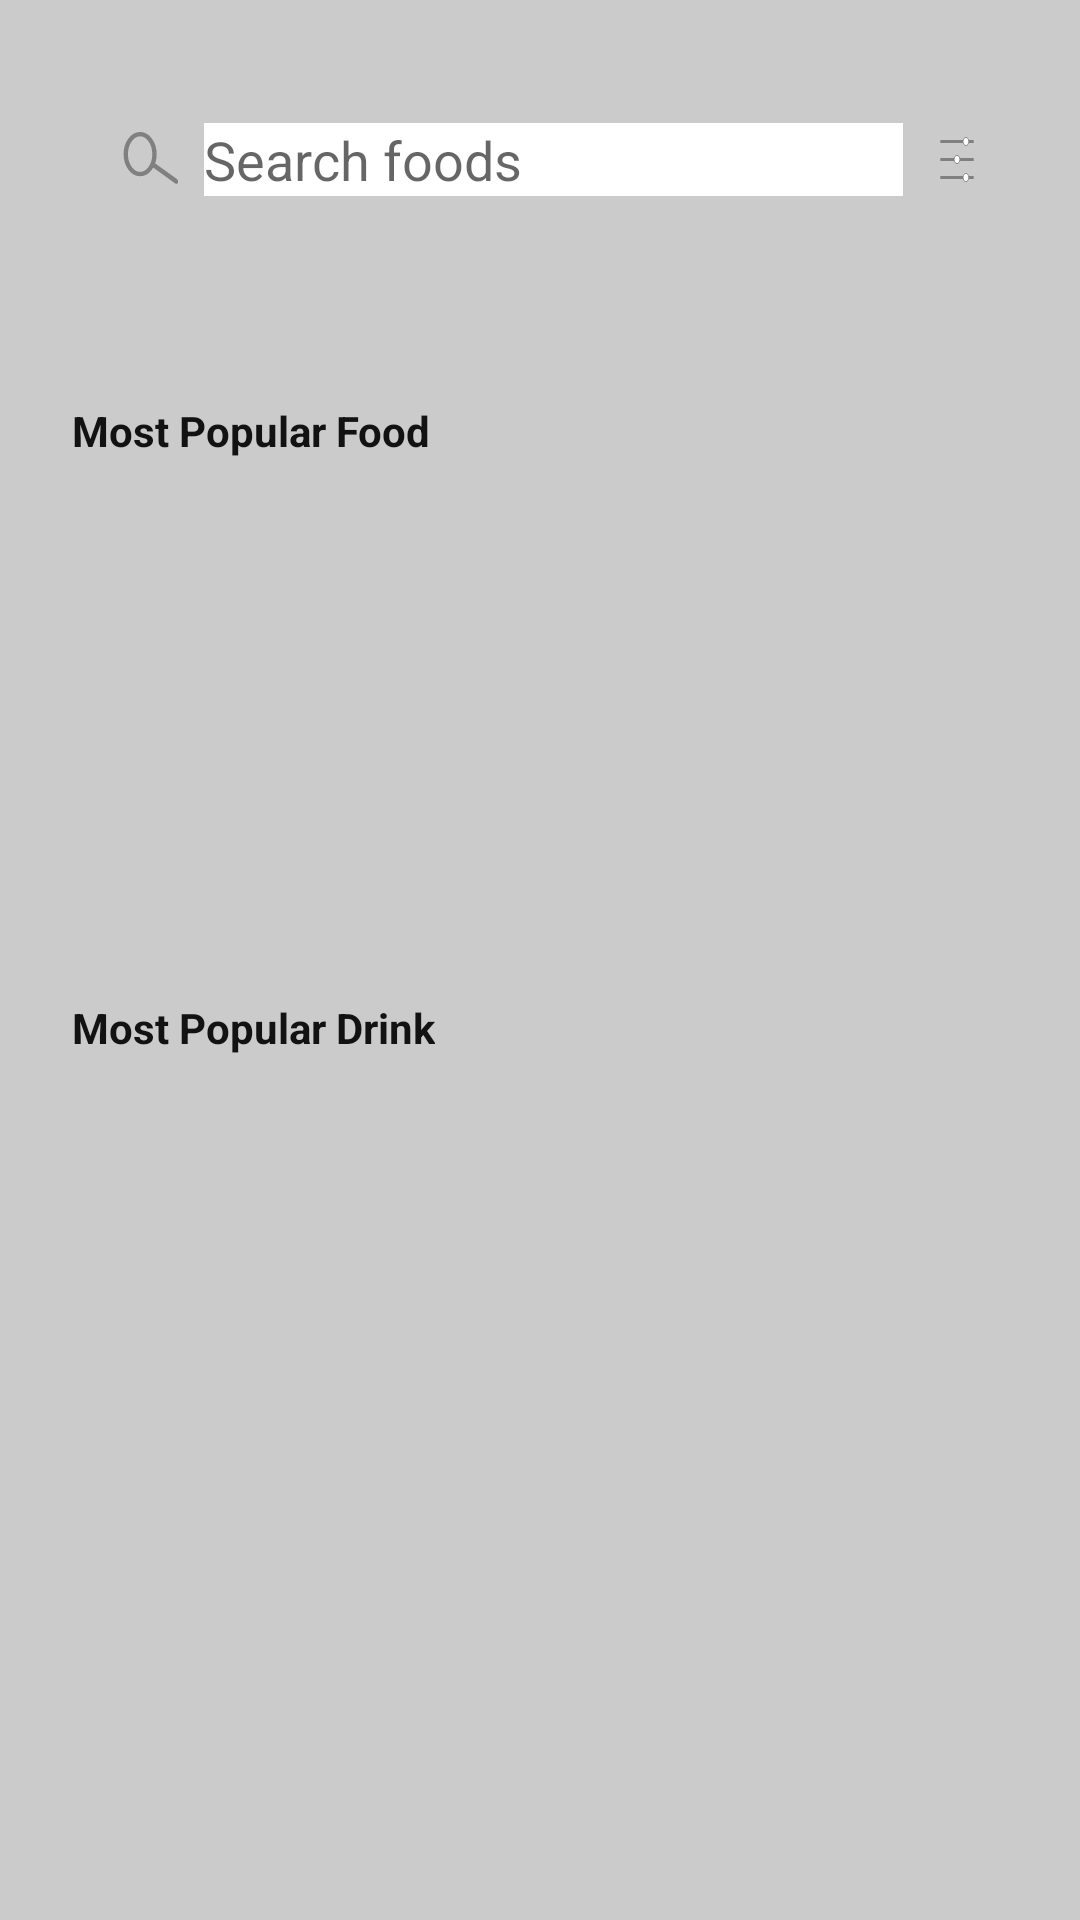

Where to tap for icons on this 1080px×1920px app screen, as [x,y]:
filter: [957,159]
